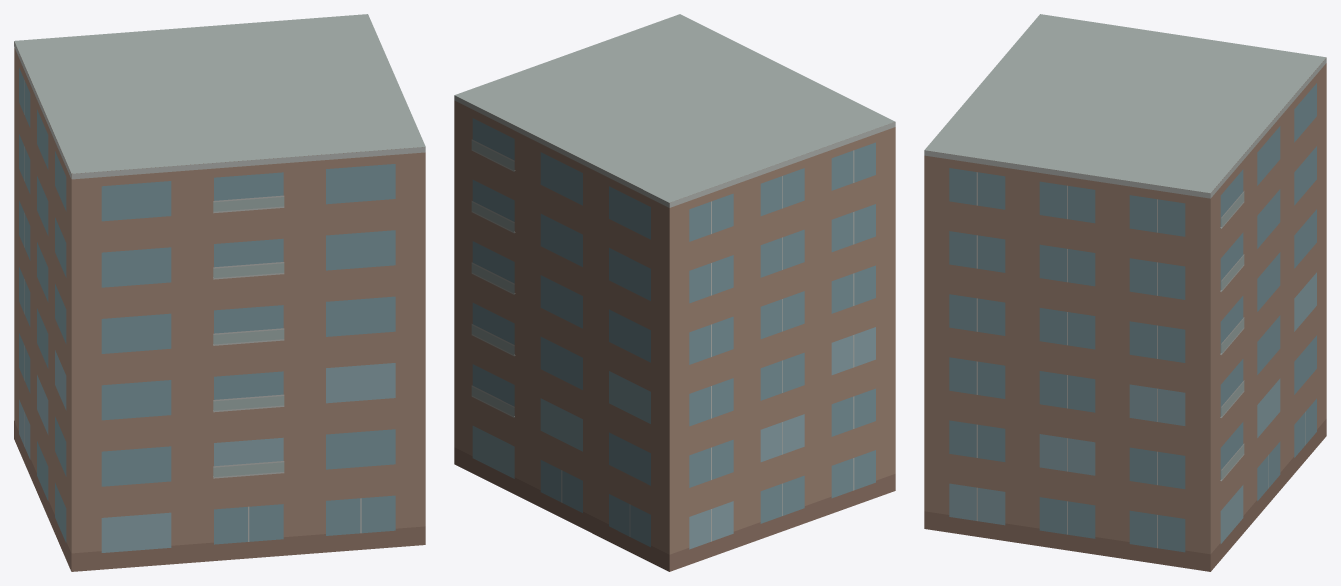
Rendered from survey-upis-32889804.glb.
3 views of the same model, side by side, from view 1: azimuth 30°, elevation 25°; view 2: azimuth 150°, elevation 25°; view 3: azimuth 270°, elevation 25° (orthographic). The views are drawn at different scales.
Parts seen in each view (by area): view 1: survey-upis-32889804.tmp; view 2: survey-upis-32889804.tmp; view 3: survey-upis-32889804.tmp.
Part boxes in pixels (x1,y1,x2,y2): survey-upis-32889804.tmp: (14,14,425,571); survey-upis-32889804.tmp: (454,14,895,571); survey-upis-32889804.tmp: (924,14,1326,571).
Bounding box in the file's own units: 17.47 × 17.2 × 16.57.
